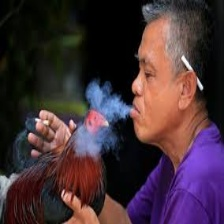smoke: (85, 84, 129, 114)
